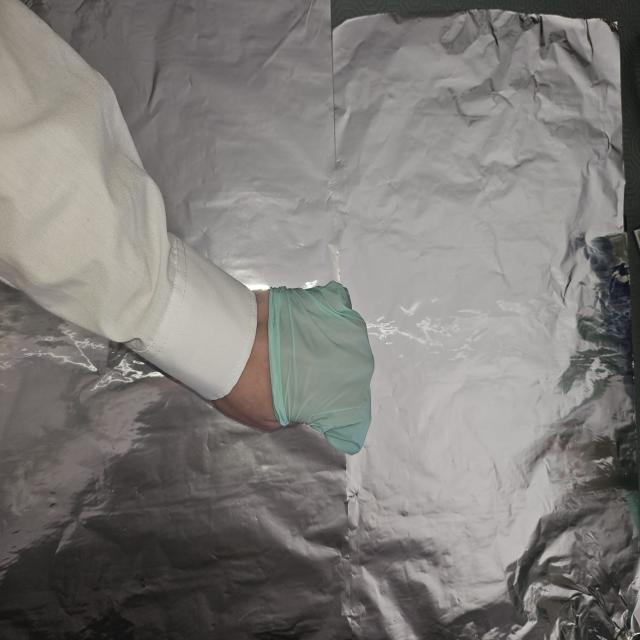glove_partial: (233, 280, 374, 456)
